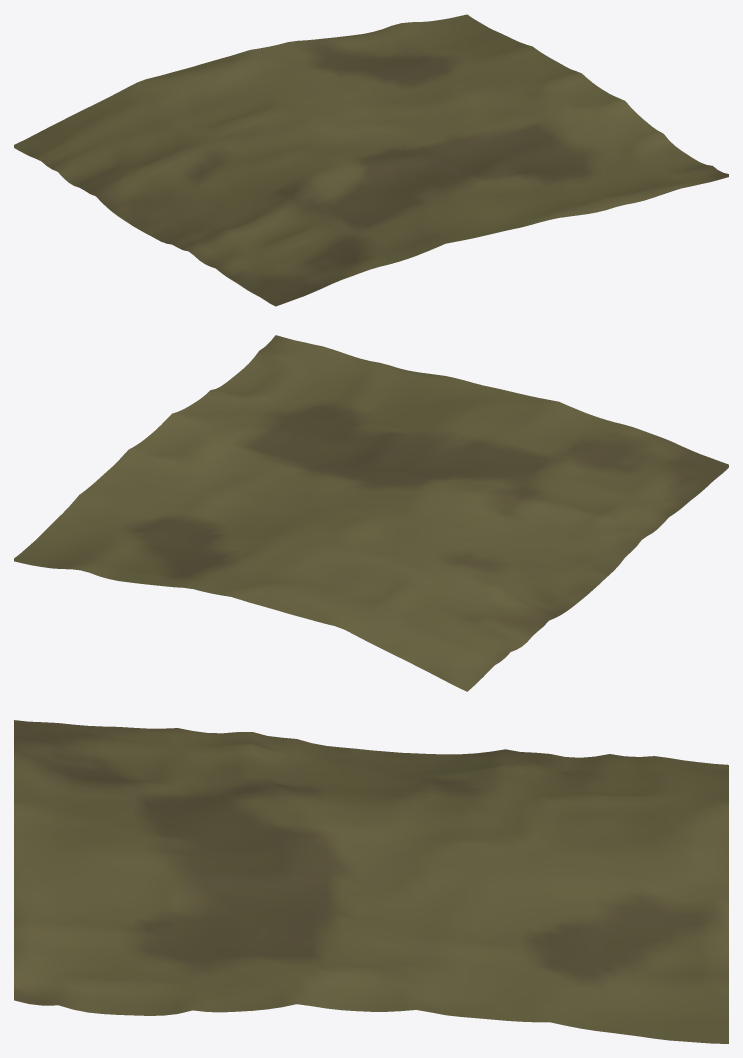
The model's file is land_m_10_09.glb.
3 views of the same model, one above another, from view 1: azimuth 30°, elevation 25°; view 2: azimuth 150°, elevation 25°; view 3: azimuth 270°, elevation 25° (orthographic). The views are drawn at different scales.
Parts seen in each view (by area): view 1: land_m_10_09; view 2: land_m_10_09; view 3: land_m_10_09.
Boxes of the visible parts, x1=… form: land_m_10_09: x1=14, y1=14, x2=728, y2=306; land_m_10_09: x1=14, y1=335, x2=728, y2=691; land_m_10_09: x1=14, y1=720, x2=728, y2=1043.
Bounding box in the file's own units: 960 × 116 × 960.
